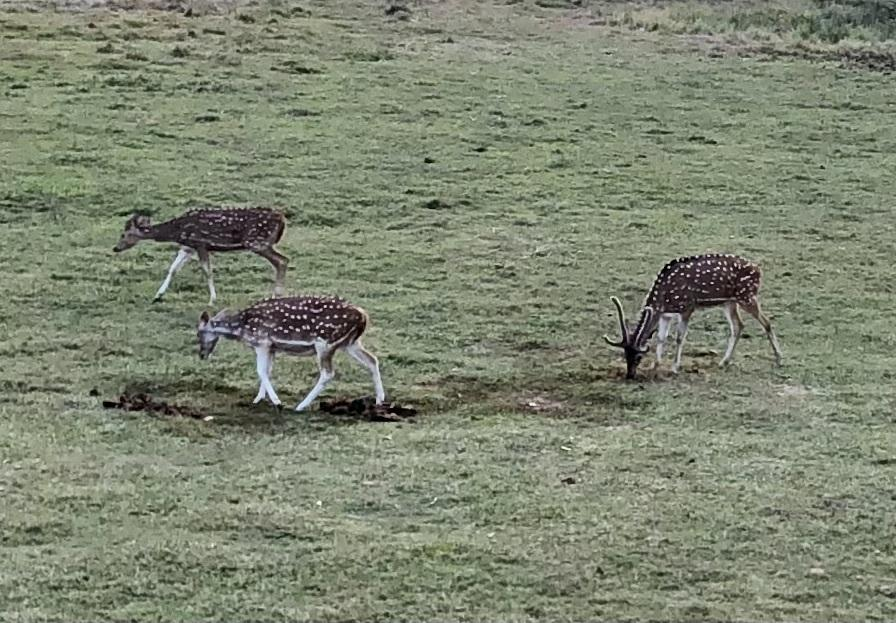Deer: (603, 254, 780, 378), (197, 295, 386, 411), (112, 207, 288, 305)
